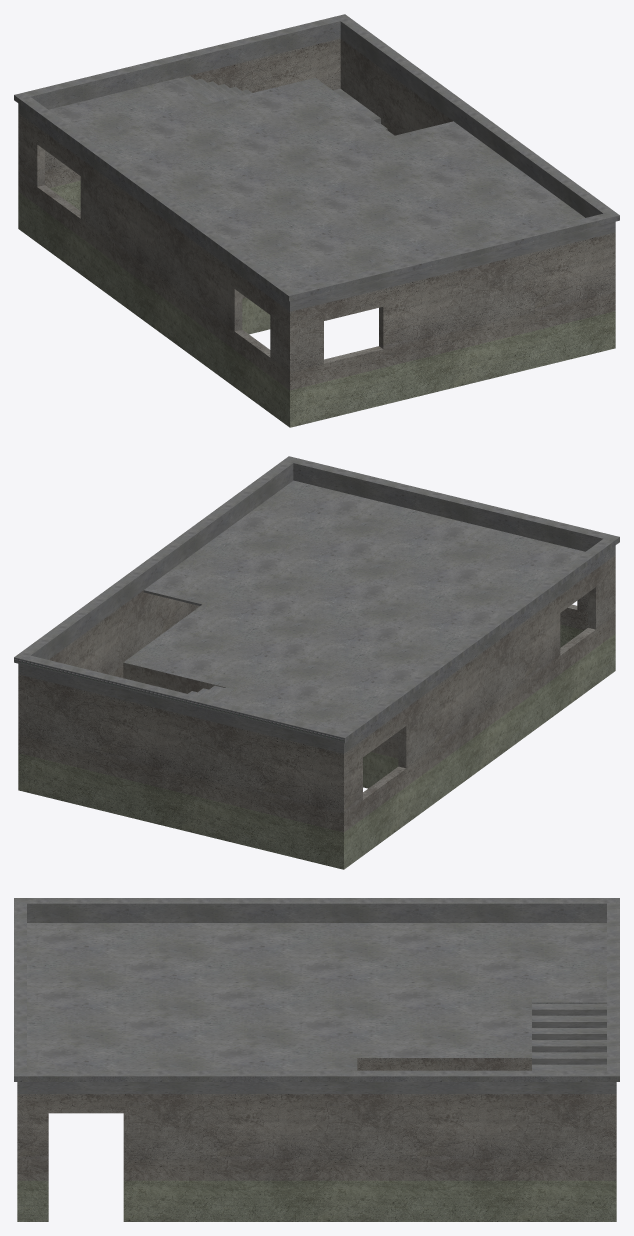
The model's file is house4.fbx.
3 views of the same model, one above another, from view 1: azimuth 30°, elevation 25°; view 2: azimuth 150°, elevation 25°; view 3: azimuth 270°, elevation 25° (orthographic). The views are drawn at different scales.
Visible parts, largest first — view 1: Cube; view 2: Cube; view 3: Cube.
Boxes of the visible parts, left/top/right/bottom form: Cube: left=14, top=14, right=619, bottom=427; Cube: left=14, top=456, right=619, bottom=869; Cube: left=14, top=898, right=619, bottom=1221.
Size of the model in its own units: 6.1 by 2.35 by 8.77.
